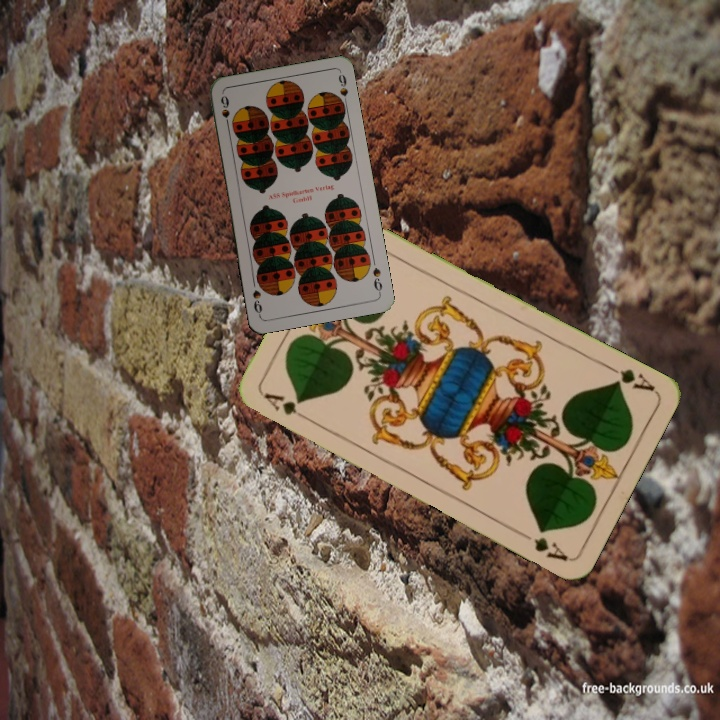GA: (602, 360, 658, 395), (260, 389, 314, 425)
S9: (217, 91, 232, 132), (369, 264, 385, 296)
